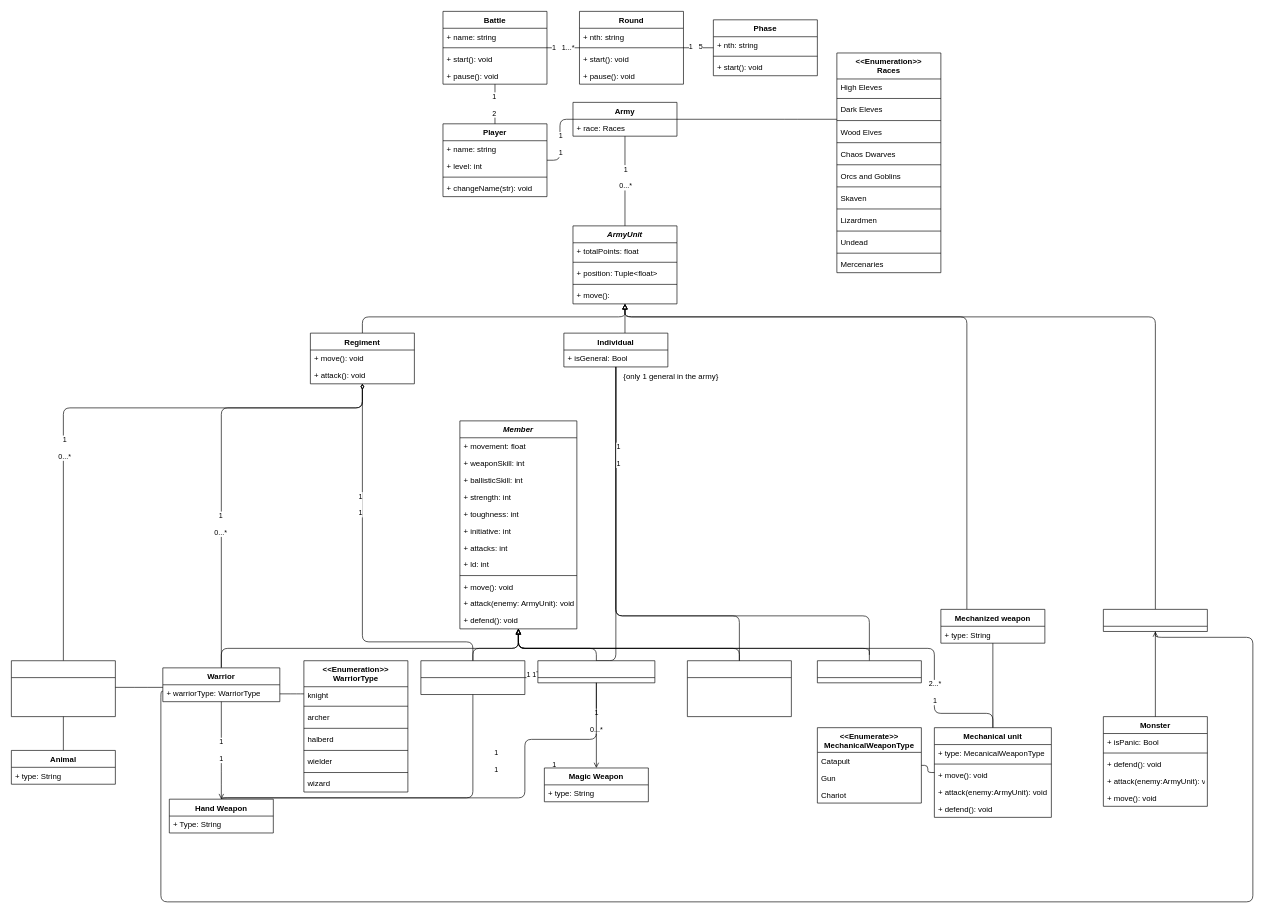
Image size: 1269x918. Some labels were removed from this diagram. Here are the shapes that lost their labels. From the top down, the centre of each, then its label:
pixel 1155 620: WarriorMonster
pixel 63 688: MountedTroup
pixel 472 677: Leader
pixel 596 671: Champion
pixel 739 688: Hero
pixel 869 671: Load
